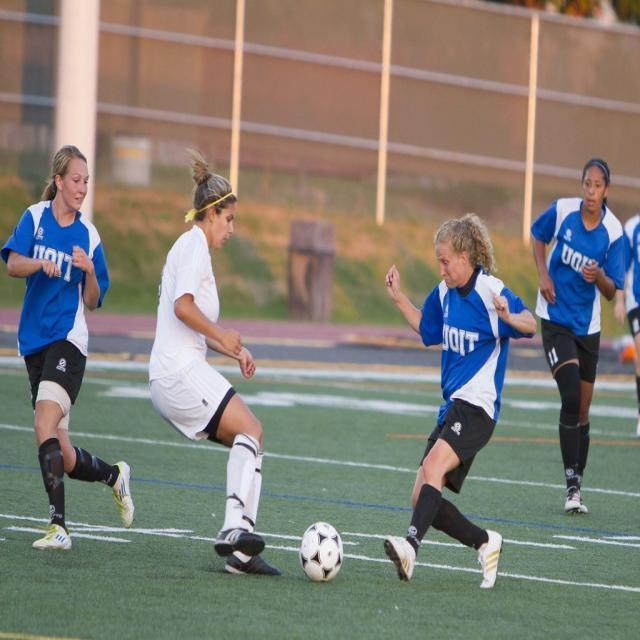ball: (297, 517, 344, 583)
